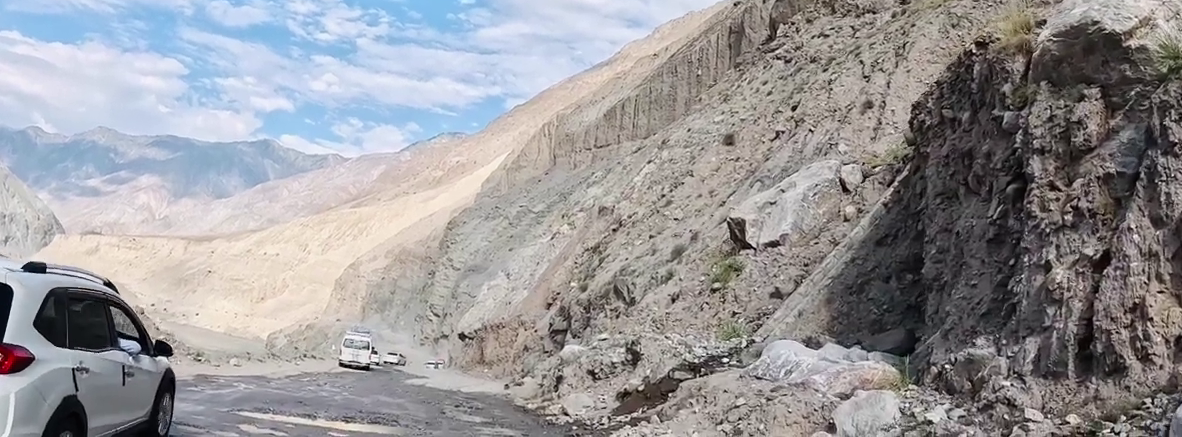unexpected: (293, 254, 754, 419)
